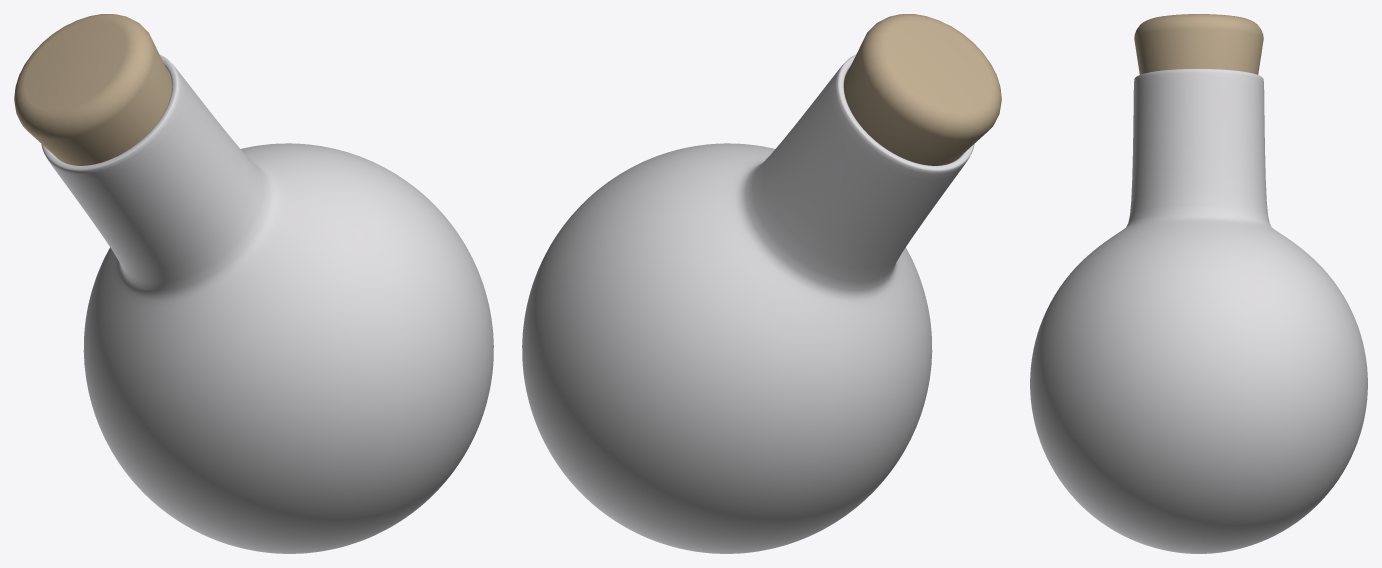
Rendered from potion_bottle.fbx.
3 renders of one model, left to right at view 1: azimuth 30°, elevation 25°; view 2: azimuth 150°, elevation 25°; view 3: azimuth 270°, elevation 25°, orthographic. The views are drawn at different scales.
Parts seen in each view (by area): view 1: bottle; view 2: bottle; view 3: bottle.
Part boxes in pixels (x1,y1,x2,y2): bottle: (14,14,493,553); bottle: (522,14,1001,553); bottle: (1030,14,1367,553).
Size of the model in its own units: 245 by 295 by 197.
